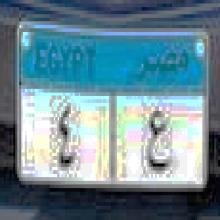4: (54, 101, 80, 178)
ain: (144, 103, 175, 178)
